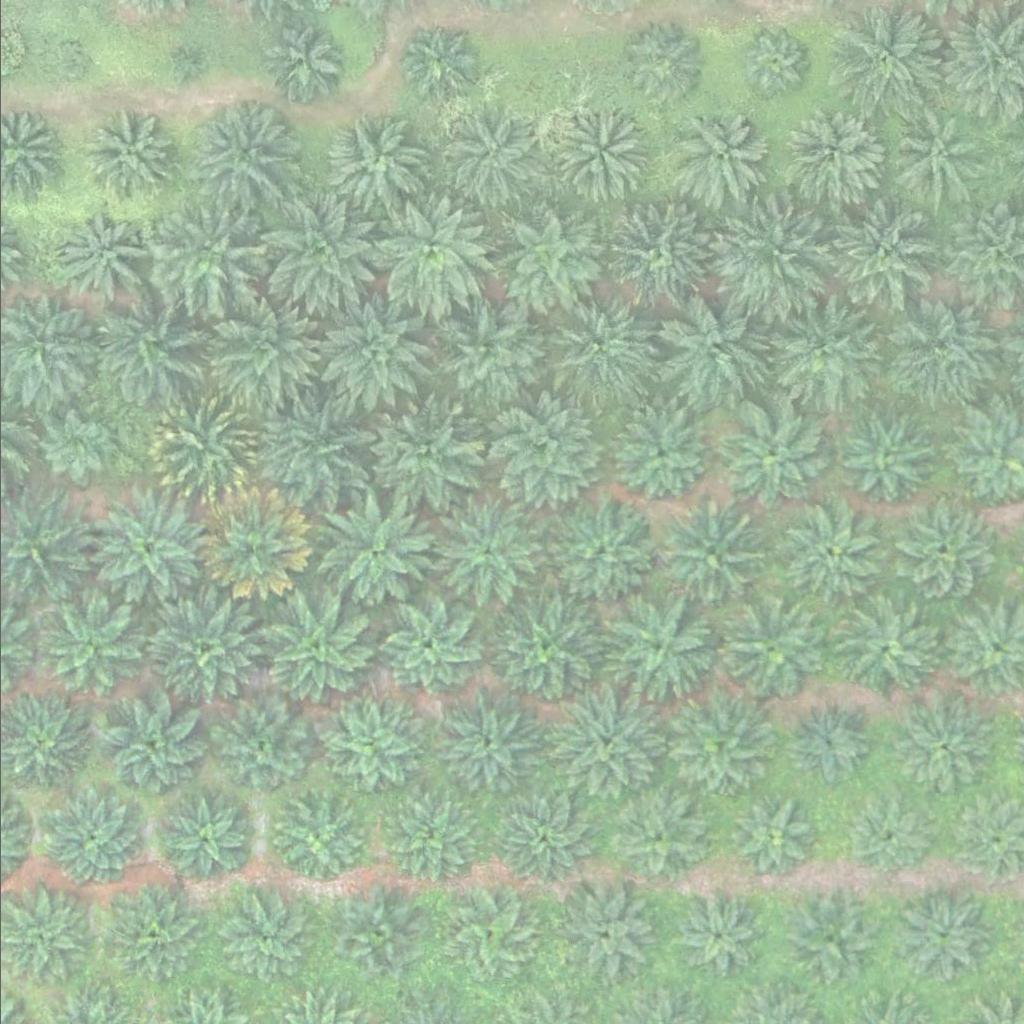Kelapa_Sawit: (837, 2, 951, 115), (186, 97, 300, 210), (888, 293, 1001, 406), (716, 201, 829, 314), (599, 202, 712, 315), (768, 298, 881, 411), (654, 295, 767, 408), (543, 289, 656, 402), (428, 297, 541, 410), (488, 397, 601, 510), (374, 400, 487, 513), (256, 399, 369, 512), (601, 590, 714, 703), (549, 688, 662, 801), (429, 691, 542, 804), (28, 592, 141, 705), (195, 488, 308, 601), (146, 390, 259, 503), (94, 490, 207, 603), (822, 199, 936, 311), (258, 197, 372, 309), (88, 291, 202, 403), (152, 200, 266, 312), (490, 197, 603, 309), (369, 196, 482, 308), (317, 299, 430, 411), (714, 402, 827, 514), (775, 497, 888, 609), (648, 504, 761, 616), (542, 497, 655, 609), (423, 497, 536, 609), (317, 494, 430, 606), (483, 597, 596, 709), (259, 598, 372, 710), (146, 591, 259, 703), (202, 288, 315, 400), (893, 700, 994, 800), (829, 599, 930, 699), (892, 503, 993, 603), (835, 406, 936, 506), (778, 102, 879, 202), (666, 108, 767, 208), (548, 103, 649, 203), (609, 408, 710, 508), (375, 598, 476, 698), (380, 790, 481, 890), (781, 890, 882, 990), (217, 891, 318, 991), (100, 888, 201, 988), (40, 787, 141, 887), (209, 697, 310, 797), (100, 695, 201, 795), (892, 885, 992, 985), (884, 110, 984, 210), (435, 113, 535, 213), (322, 115, 422, 215), (726, 600, 826, 700), (666, 698, 766, 798), (608, 786, 708, 886), (560, 884, 660, 984), (671, 892, 759, 980), (449, 891, 537, 979), (330, 894, 418, 982), (615, 21, 703, 108), (324, 703, 412, 790), (500, 798, 588, 885), (271, 794, 359, 881), (156, 797, 244, 884), (55, 213, 143, 300), (88, 113, 176, 200), (259, 19, 347, 106), (399, 26, 475, 101), (788, 708, 864, 783), (735, 802, 811, 877), (39, 408, 115, 483), (844, 797, 919, 872), (736, 24, 811, 99), (46, 44, 84, 82), (174, 57, 199, 82)
